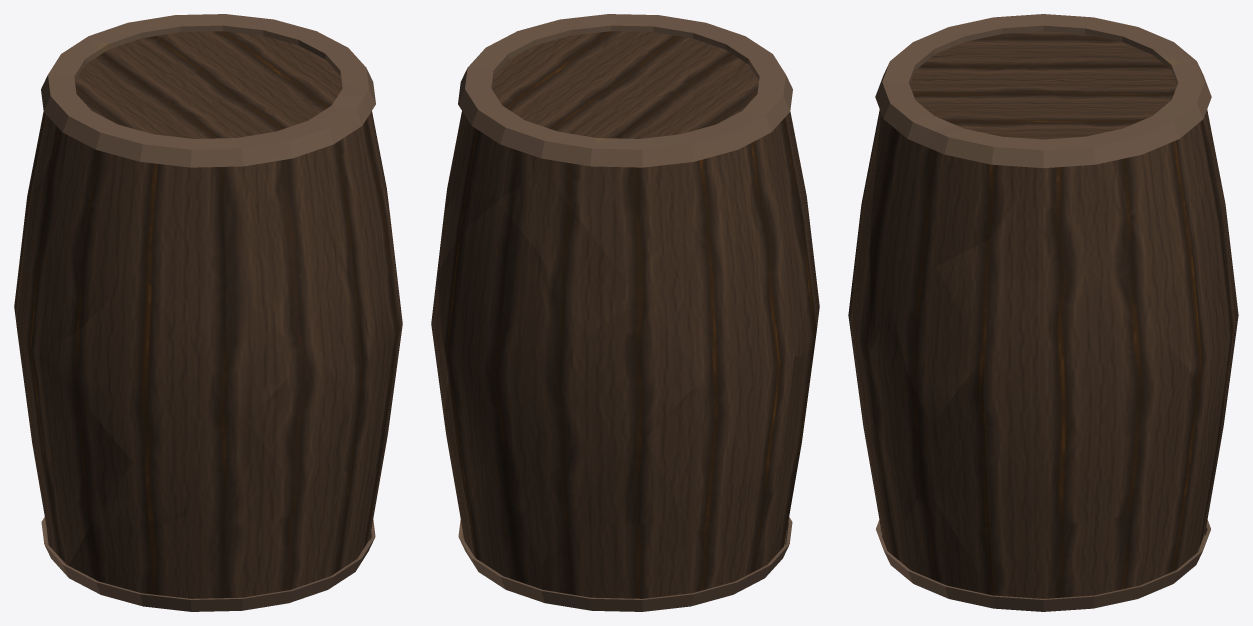
The model's file is SM_Exploding_Barrel.fbx.
The picture shows the model from 3 angles, left to right: view 1: azimuth 30°, elevation 25°; view 2: azimuth 150°, elevation 25°; view 3: azimuth 270°, elevation 25°; orthographic projection.
Visible parts, largest first — view 1: polySurface91, polySurface104, polySurface92, polySurface90, polySurface94, polySurface93, polySurface95, polySurface96, polySurface100, polySurface98; view 2: polySurface97, polySurface96, polySurface104, polySurface95, polySurface98, polySurface90, polySurface100, polySurface99, polySurface91; view 3: polySurface99, polySurface104, polySurface92, polySurface93, polySurface97, polySurface94, polySurface98, polySurface100, polySurface95, polySurface96.
Boxes of the visible parts, bbox=[...] form: polySurface91: bbox=[39, 274, 304, 565]; polySurface104: bbox=[41, 14, 375, 167]; polySurface92: bbox=[242, 157, 396, 507]; polySurface90: bbox=[39, 135, 246, 356]; polySurface94: bbox=[68, 430, 384, 598]; polySurface93: bbox=[292, 111, 402, 370]; polySurface95: bbox=[32, 357, 132, 565]; polySurface96: bbox=[14, 134, 67, 464]; polySurface100: bbox=[41, 517, 375, 611]; polySurface98: bbox=[35, 111, 64, 189]; polySurface97: bbox=[437, 201, 703, 562]; polySurface96: bbox=[497, 135, 794, 498]; polySurface104: bbox=[458, 14, 792, 167]; polySurface95: bbox=[469, 355, 813, 598]; polySurface98: bbox=[444, 111, 762, 279]; polySurface90: bbox=[766, 111, 811, 355]; polySurface100: bbox=[458, 517, 792, 611]; polySurface99: bbox=[431, 111, 497, 558]; polySurface91: bbox=[794, 196, 819, 356]; polySurface99: bbox=[983, 164, 1206, 598]; polySurface104: bbox=[875, 14, 1211, 168]; polySurface92: bbox=[848, 109, 1043, 595]; polySurface93: bbox=[870, 113, 1038, 428]; polySurface97: bbox=[1151, 175, 1238, 523]; polySurface94: bbox=[863, 403, 991, 595]; polySurface98: bbox=[1097, 109, 1207, 265]; polySurface100: bbox=[876, 520, 1210, 611]; polySurface95: bbox=[1174, 421, 1218, 570]; polySurface96: bbox=[1207, 112, 1221, 184].
Size of the model in its own units: 51.64 by 67.45 by 51.64.
